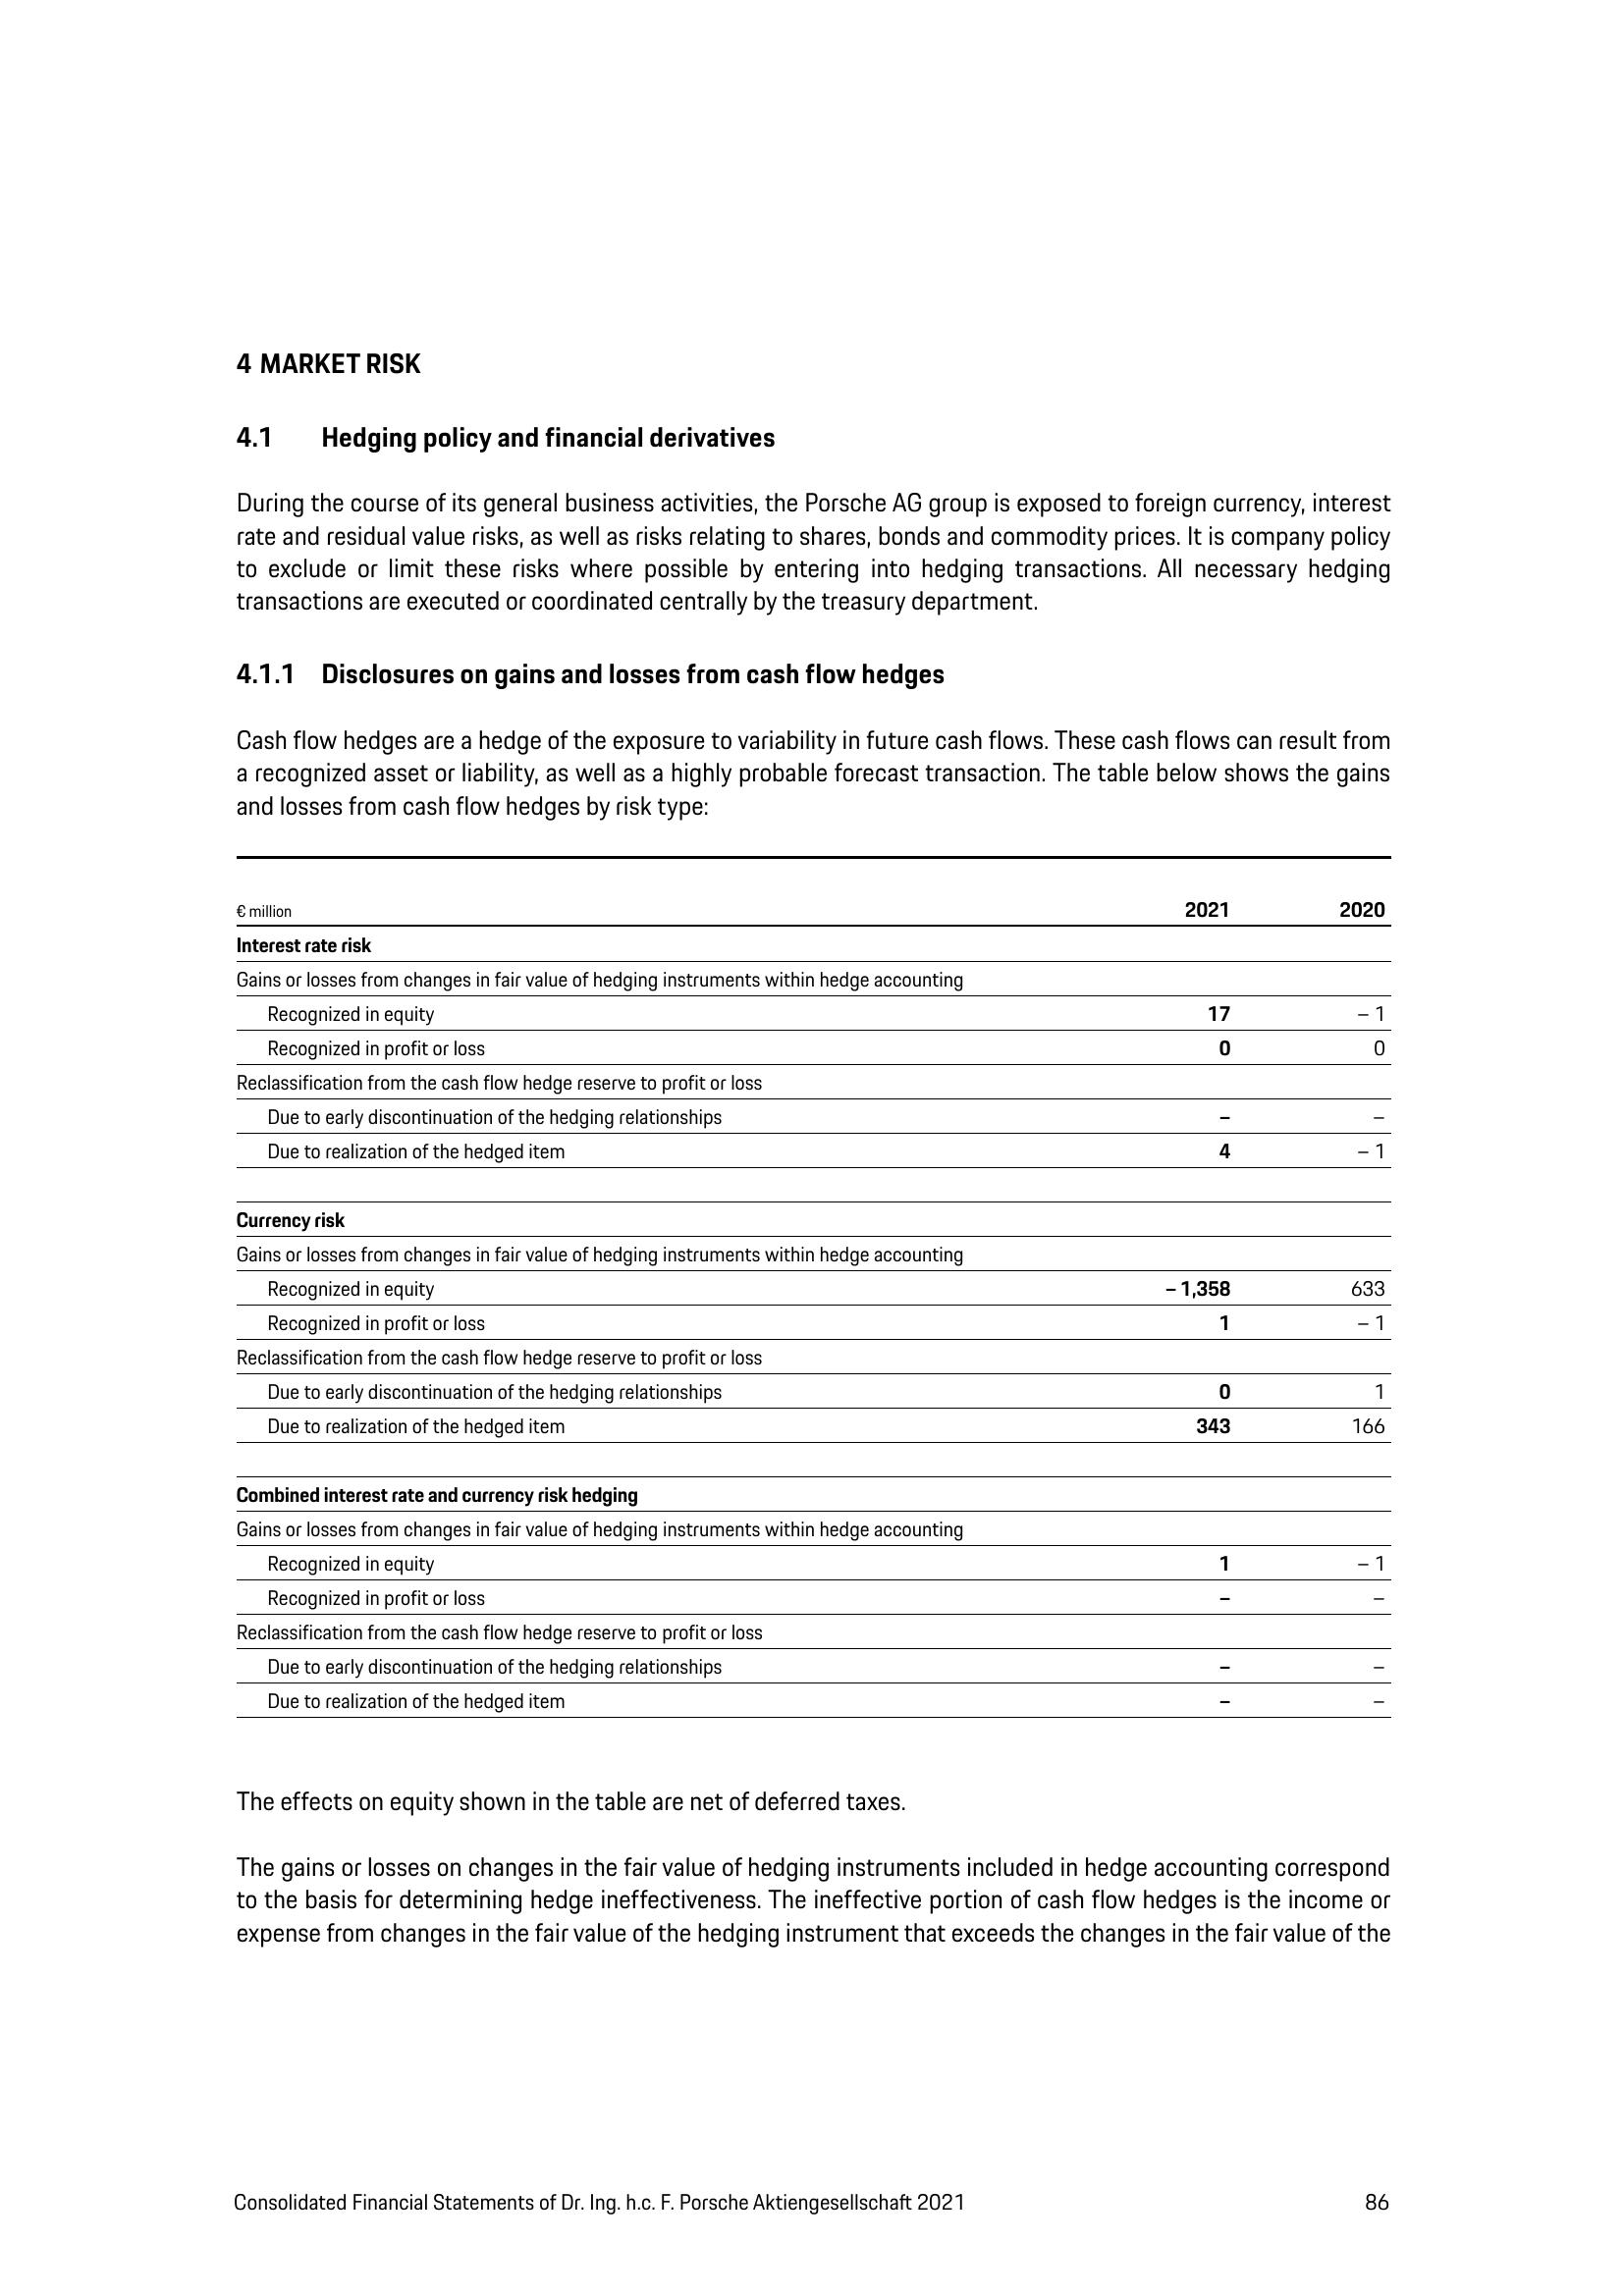Footer: (0, 2148, 1624, 2296)
Header: (0, 0, 1624, 232)
Table: (163, 850, 1438, 1758)
